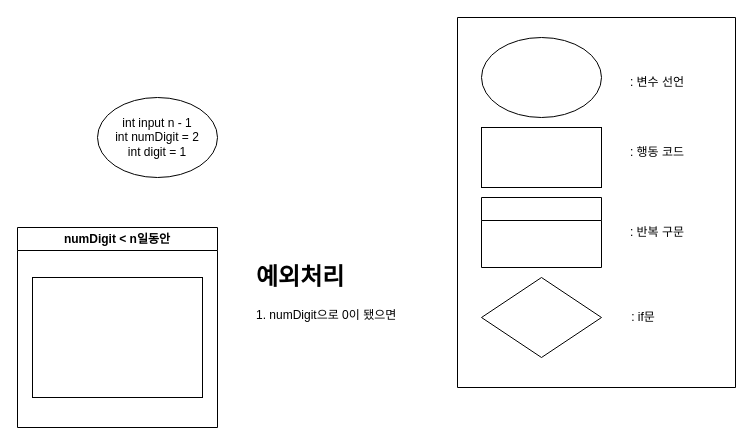
Image size: 753x445. Some labels were removed from this diagram. The centre of each missing label's shape, as x and y in pixels:
"n -= numDIgit numDigit *= 2 digit += 1" belongs at point (117, 337).
"~ 동안" belongs at point (541, 232).
